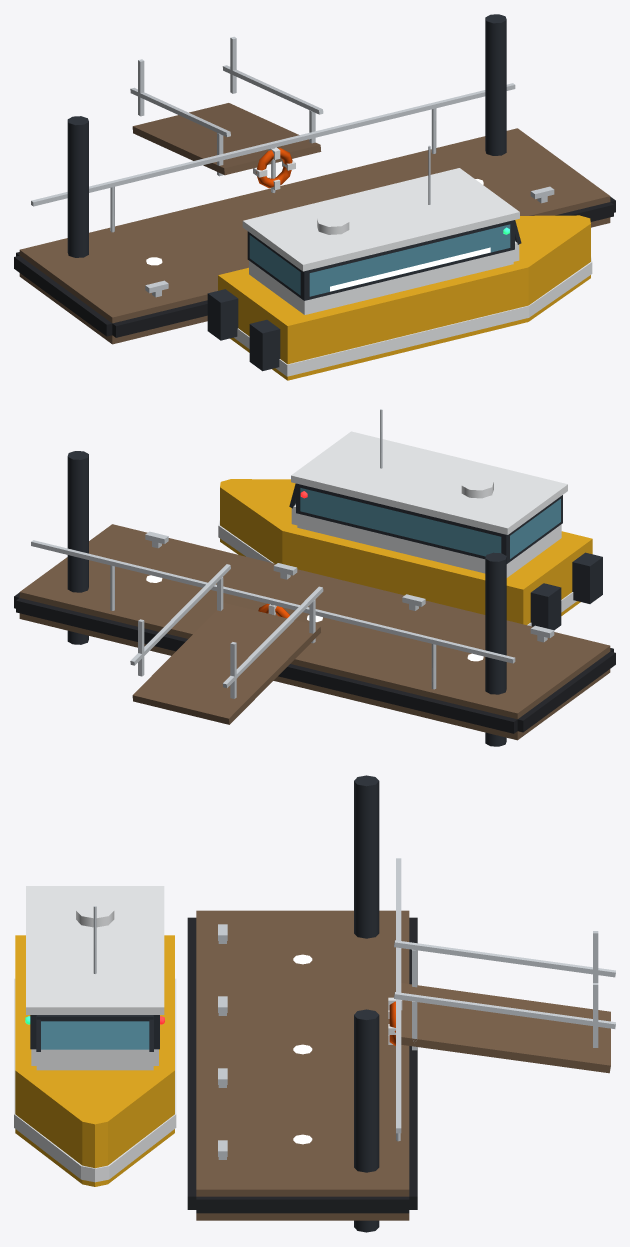
The model's file is marina_yacht_pier.glb.
3 views of the same model, one above another, from view 1: azimuth 30°, elevation 25°; view 2: azimuth 150°, elevation 25°; view 3: azimuth 270°, elevation 25° (orthographic). The views are drawn at different scales.
Visible parts, largest first — view 1: PontoonTeak, BoatWhite, WaterbusHull, DarkSteel, SilverMetal, CabinGlass, RubberFenders, CabinGlow, Lifebuoy; view 2: PontoonTeak, BoatWhite, WaterbusHull, DarkSteel, SilverMetal, RubberFenders, CabinGlass; view 3: PontoonTeak, BoatWhite, WaterbusHull, DarkSteel, RubberFenders, SilverMetal, CabinGlass.
Part boxes in pixels (<box>): PontoonTeak: <box>19,103,610,344</box>; BoatWhite: <box>234,147,592,376</box>; WaterbusHull: <box>218,215,590,380</box>; DarkSteel: <box>67,14,521,371</box>; SilverMetal: <box>31,36,554,297</box>; CabinGlass: <box>249,224,510,296</box>; RubberFenders: <box>14,196,615,337</box>; CabinGlow: <box>330,247,490,291</box>; Lifebuoy: <box>256,148,292,188</box>; PontoonTeak: <box>19,524,610,740</box>; BoatWhite: <box>218,431,576,626</box>; WaterbusHull: <box>220,479,592,624</box>; DarkSteel: <box>67,451,602,746</box>; SilverMetal: <box>31,409,554,698</box>; RubberFenders: <box>14,592,615,733</box>; CabinGlass: <box>300,488,560,558</box>; PontoonTeak: <box>196,910,610,1220</box>; BoatWhite: <box>14,886,402,1182</box>; WaterbusHull: <box>15,935,174,1186</box>; DarkSteel: <box>30,775,379,1232</box>; RubberFenders: <box>187,917,417,1213</box>; SilverMetal: <box>93,858,615,1159</box>; CabinGlass: <box>41,1021,149,1049</box>.
Size of the model in its own units: 6.34 by 2.25 by 5.65.
